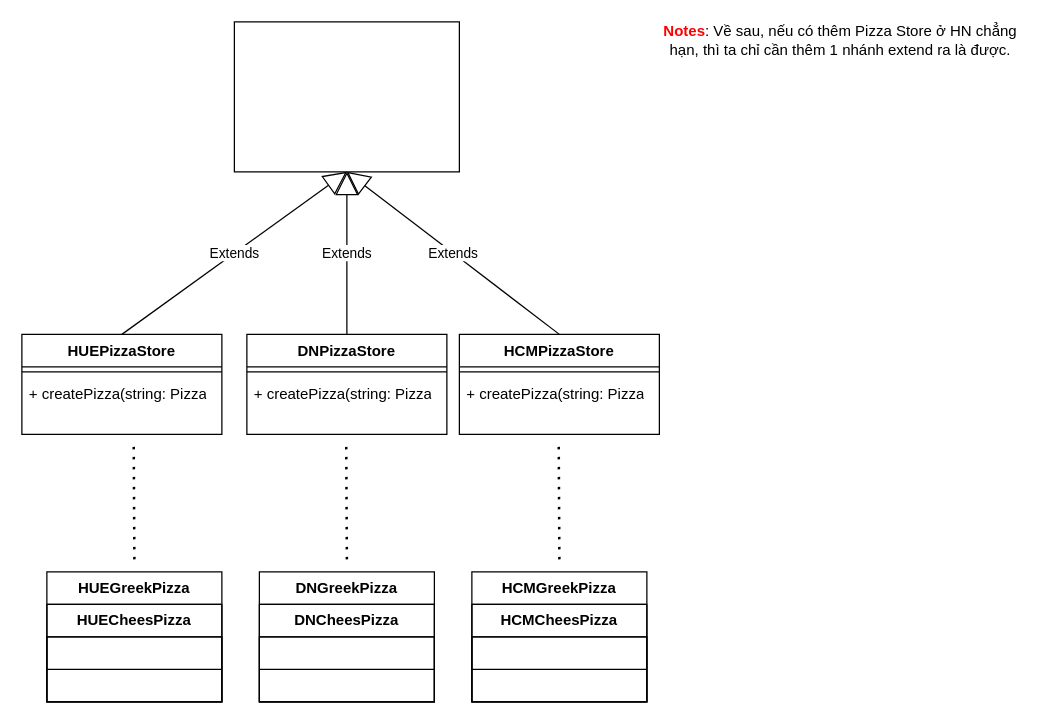
Some shapes in this 1044 by 724 pixel diagram are drawn without their labels. Each missing label, with the centre of its shape:
"<<Interface>> PizzaStore + orderPizza(string): void + createPizza(string): Pizza" belongs at pixel 346 96.
"DNPepperoniPizza" belongs at pixel 346 669.
"HCMPepperoniPizza" belongs at pixel 559 669.
"HUEPepperoniPizza" belongs at pixel 134 669.
